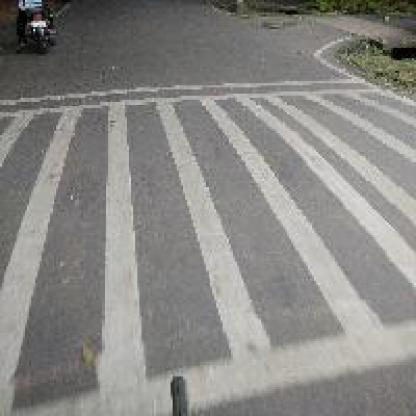Speed Bump: (2, 75, 414, 414)
